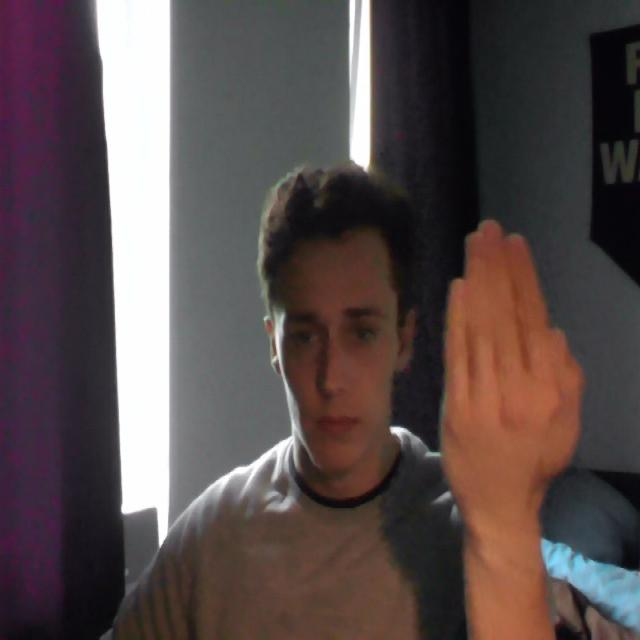forward: (422, 204, 588, 525)
